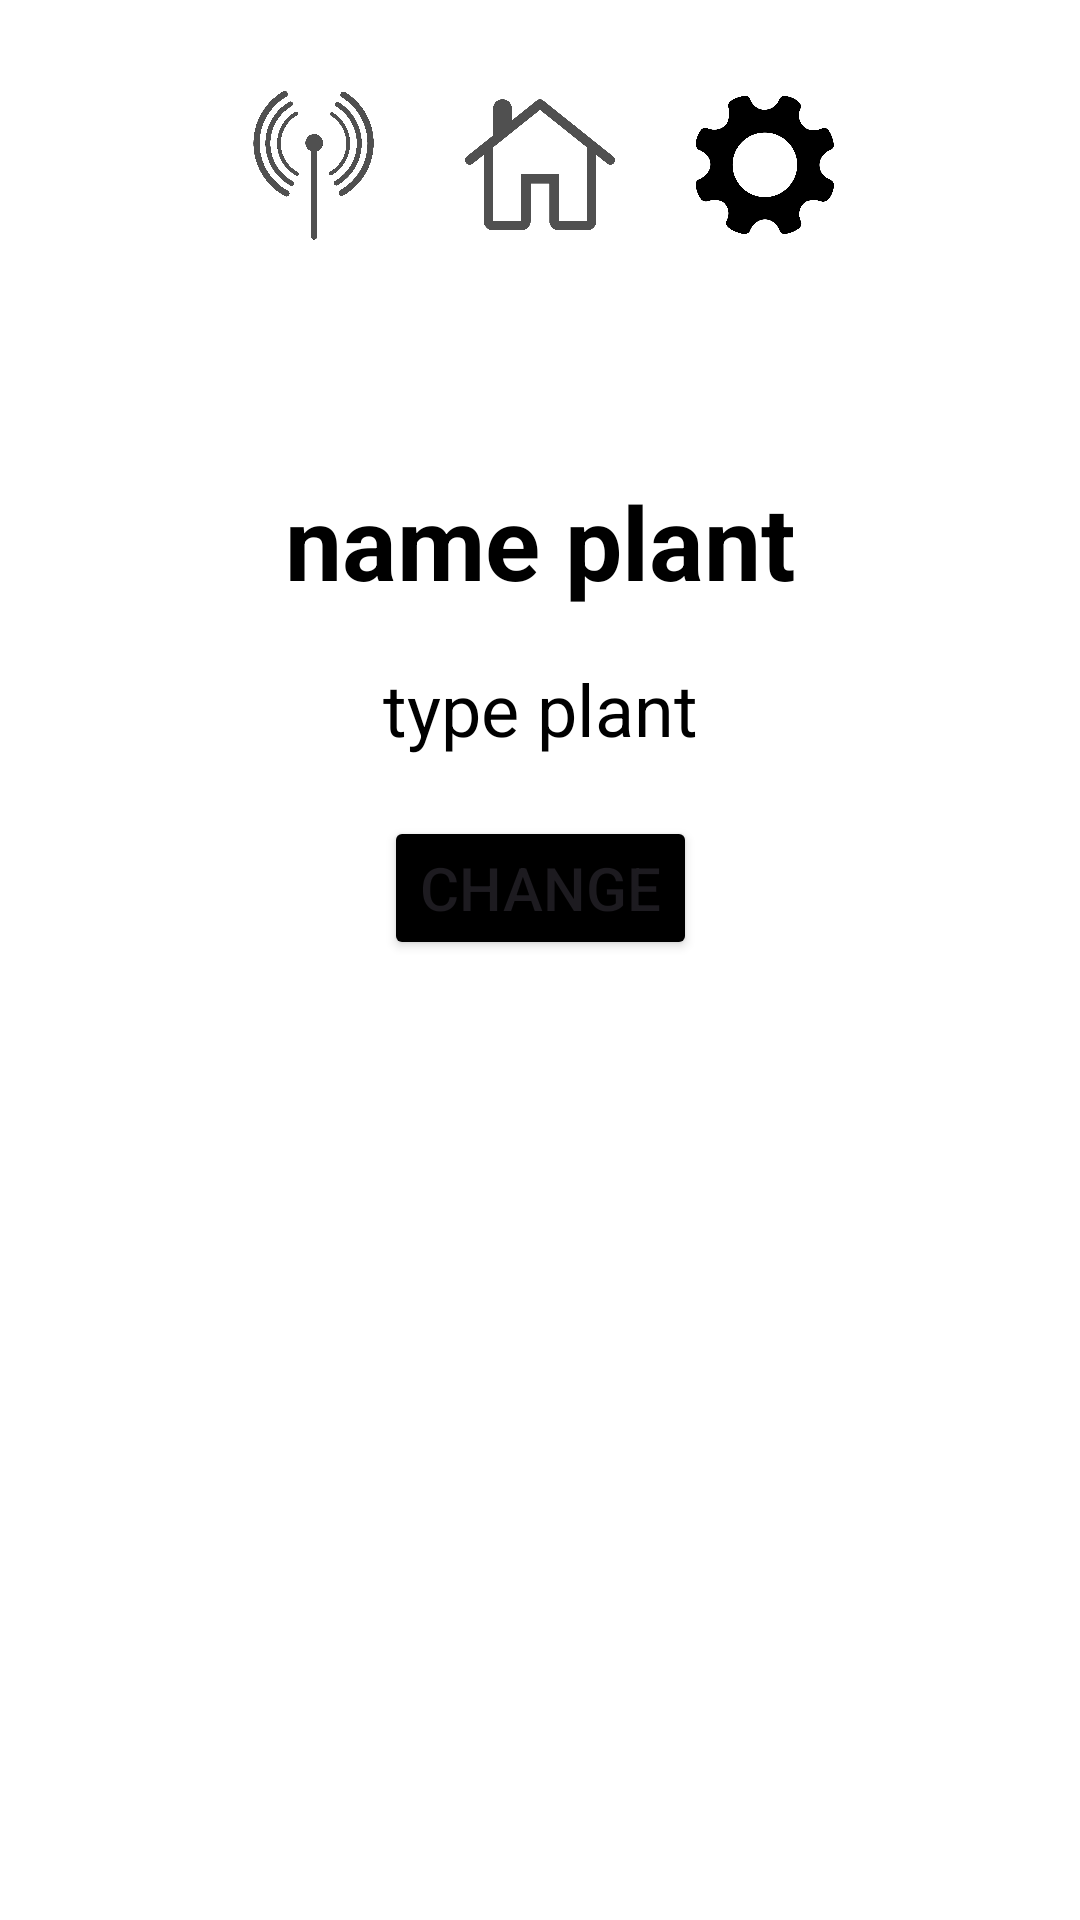

Screen size 1080x1920. Icon name, then its box in pixels as detection(x1, y1, x2, y2):
not connection: detection(253, 91, 374, 240)
setting off: detection(696, 96, 834, 234)
